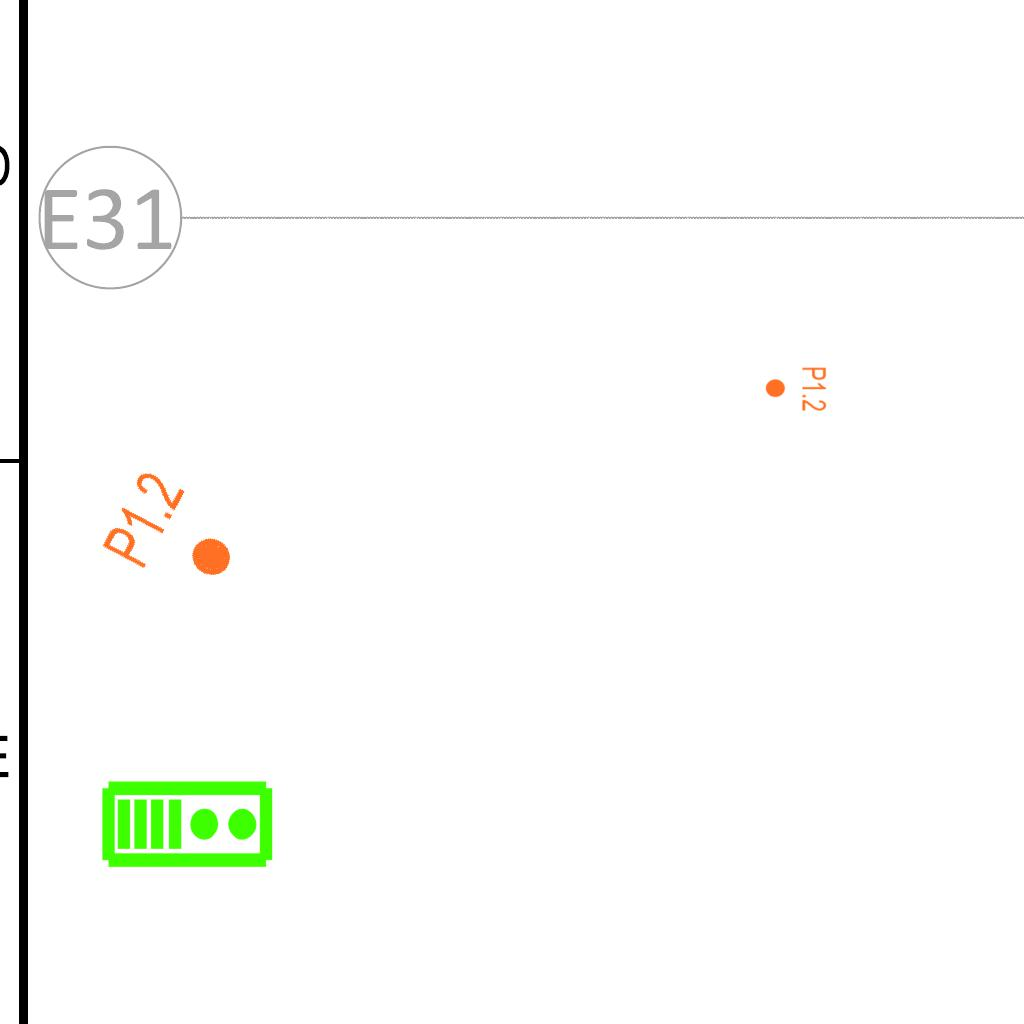Downlight_LED_Einbauleuchten_Flur: (97, 464, 254, 608), (764, 366, 828, 412)
Gegensprechanlage_mit_Video: (100, 775, 276, 870)
